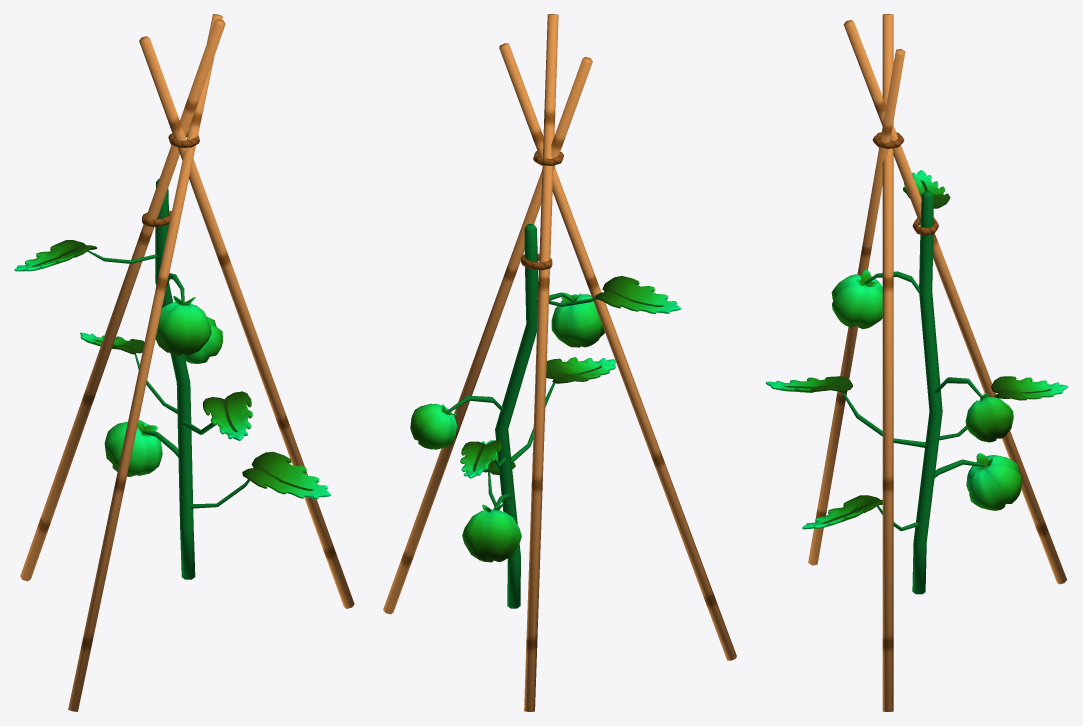
The model's file is Veg_tomato_M.fbx.
The picture shows the model from 3 angles, left to right: view 1: azimuth 30°, elevation 25°; view 2: azimuth 150°, elevation 25°; view 3: azimuth 270°, elevation 25°; orthographic projection. The views are drawn at different scales.
Parts seen in each view (by area): view 1: Torus.002; view 2: Torus.002; view 3: Torus.002.
Boxes of the visible parts, x1,y1,x2,y2 form: Torus.002: (14, 14, 354, 711); Torus.002: (383, 14, 736, 711); Torus.002: (765, 14, 1068, 711).
Size of the model in its own units: 43.29 by 51.91 by 97.8.
